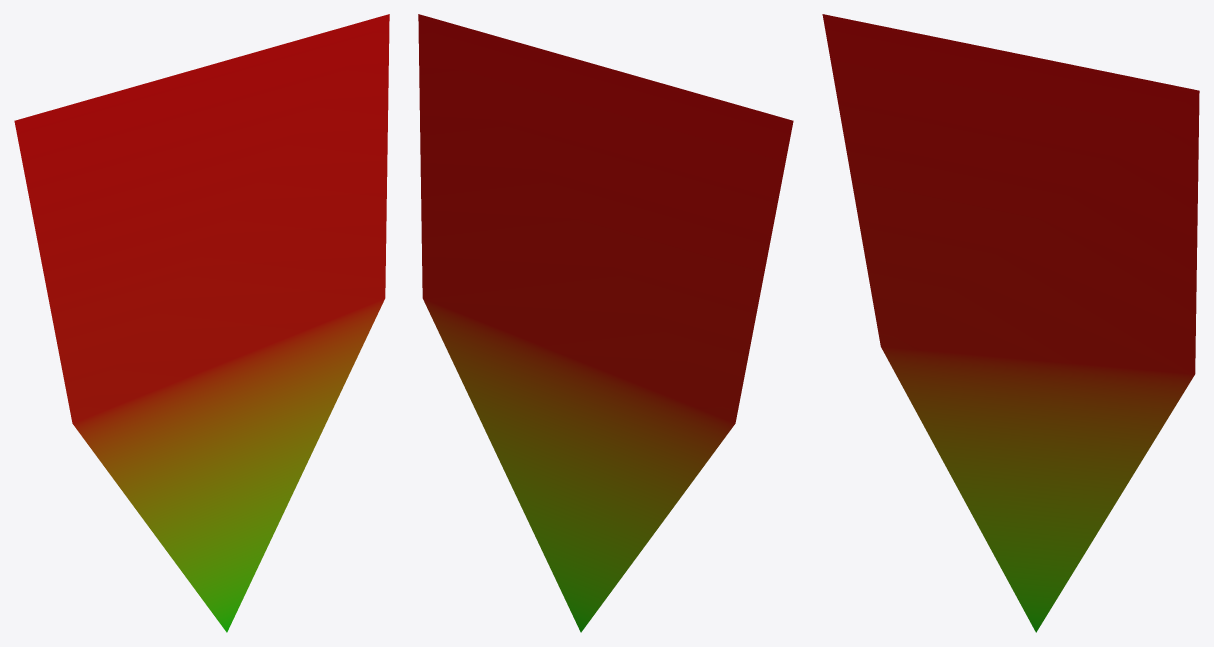
Rendered from Common Hemp Nettle_LOD7_Var2_xh1kdfbqx.fbx.
The picture shows the model from 3 angles, left to right: view 1: azimuth 30°, elevation 25°; view 2: azimuth 150°, elevation 25°; view 3: azimuth 330°, elevation 25°; orthographic projection.
Parts seen in each view (by area): view 1: _3yir_Var2_LOD7; view 2: _3yir_Var2_LOD7; view 3: _3yir_Var2_LOD7.
Boxes of the visible parts, <box> form: _3yir_Var2_LOD7: <box>14,14,389,632</box>; _3yir_Var2_LOD7: <box>418,14,793,632</box>; _3yir_Var2_LOD7: <box>822,14,1199,632</box>.
Size of the model in its own units: 36.93 by 54.48 by 2.38e-06.
